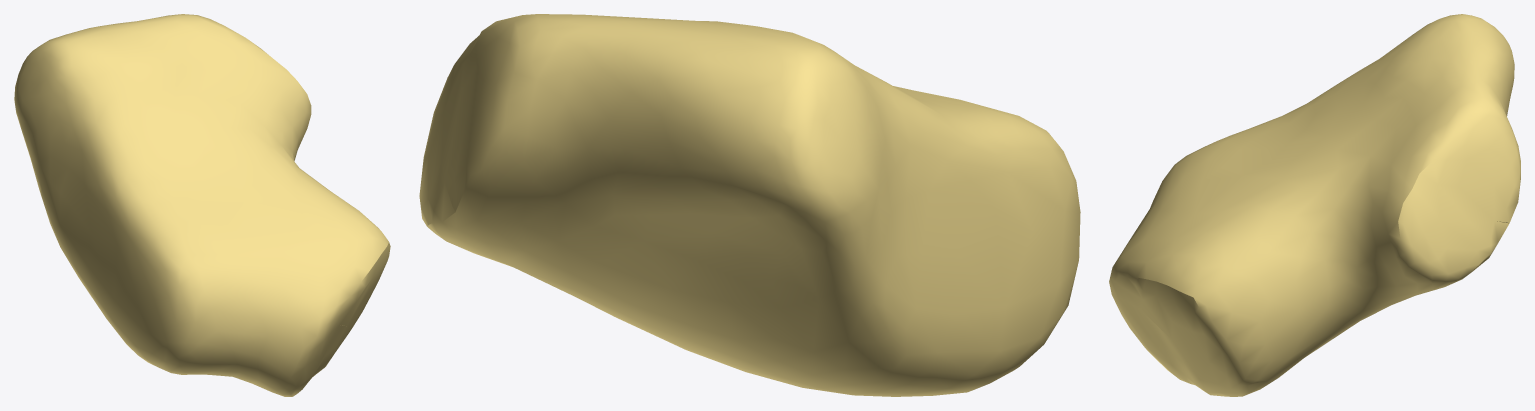
File: fma62045_fj7503m.glb
3 renders of one model, left to right at view 1: azimuth 30°, elevation 25°; view 2: azimuth 150°, elevation 25°; view 3: azimuth 270°, elevation 25°, orthographic. The views are drawn at different scales.
Parts seen in each view (by area): view 1: FMA62045_FJ7503M; view 2: FMA62045_FJ7503M; view 3: FMA62045_FJ7503M.
Part boxes in pixels (x1,y1,x2,y2): FMA62045_FJ7503M: (14,14,390,396); FMA62045_FJ7503M: (419,14,1080,396); FMA62045_FJ7503M: (1109,14,1520,396).
Size of the model in its own units: 0.00814 by 0.00855 by 0.0103.
